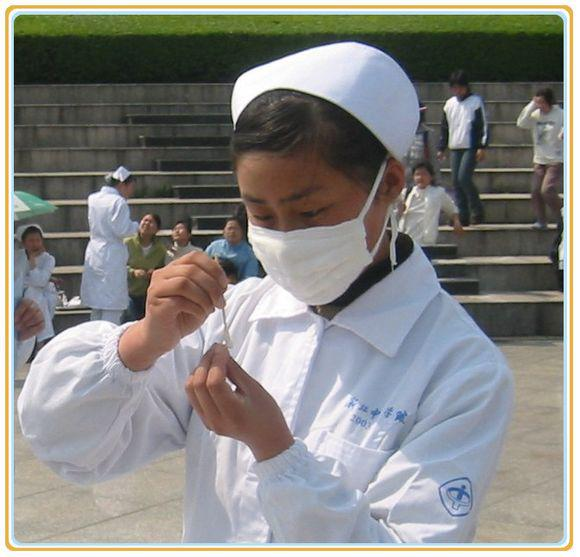NONE: (225, 225, 242, 242), (415, 171, 431, 188), (28, 238, 44, 254), (143, 218, 158, 234), (174, 226, 188, 241)
OK: (238, 175, 377, 314)
